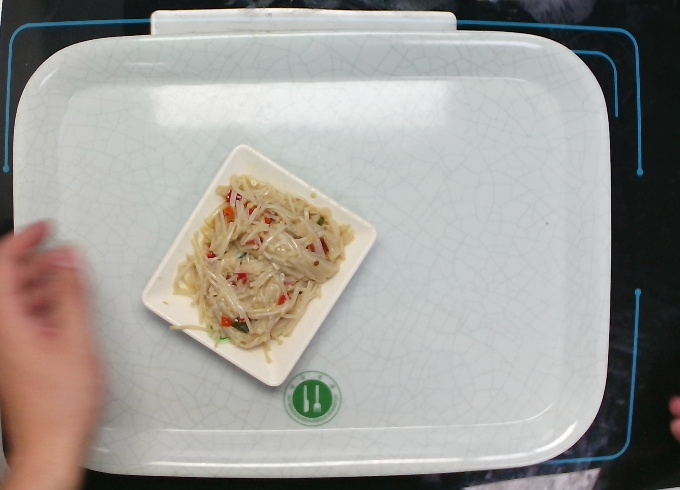WCQzf-Bai_Se_Si_Fang_Die: (138, 140, 379, 389)
